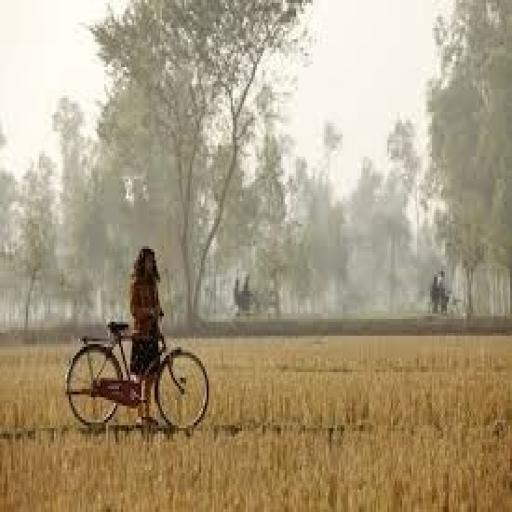cycling: (126, 243, 168, 431)
